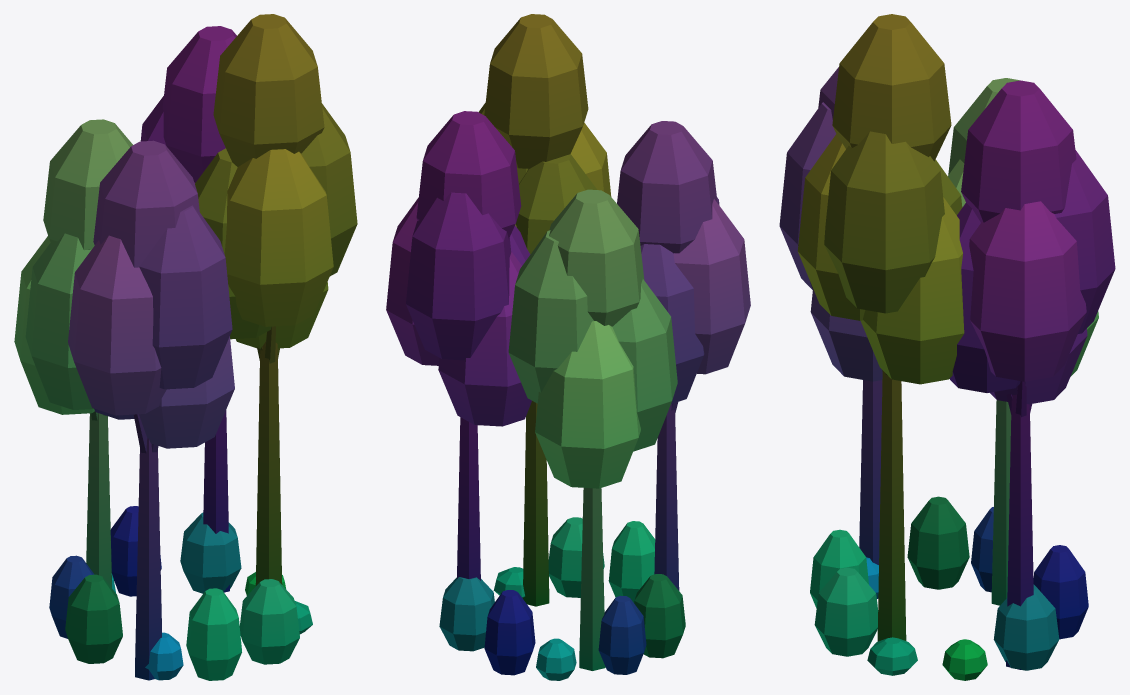
The model's file is broadleaf_00.glb.
3 views of the same model, side by side, from view 1: azimuth 30°, elevation 25°; view 2: azimuth 150°, elevation 25°; view 3: azimuth 270°, elevation 25° (orthographic). The views are drawn at different scales.
Visible parts, largest first — view 1: broadleaf_00.002; view 2: broadleaf_00.002; view 3: broadleaf_00.002.
Boxes of the visible parts, <box> form: broadleaf_00.002: <box>14,14,357,680</box>; broadleaf_00.002: <box>386,14,750,680</box>; broadleaf_00.002: <box>779,14,1115,680</box>.
Bounding box in the file's own units: 0.94 × 1.85 × 0.8874.
